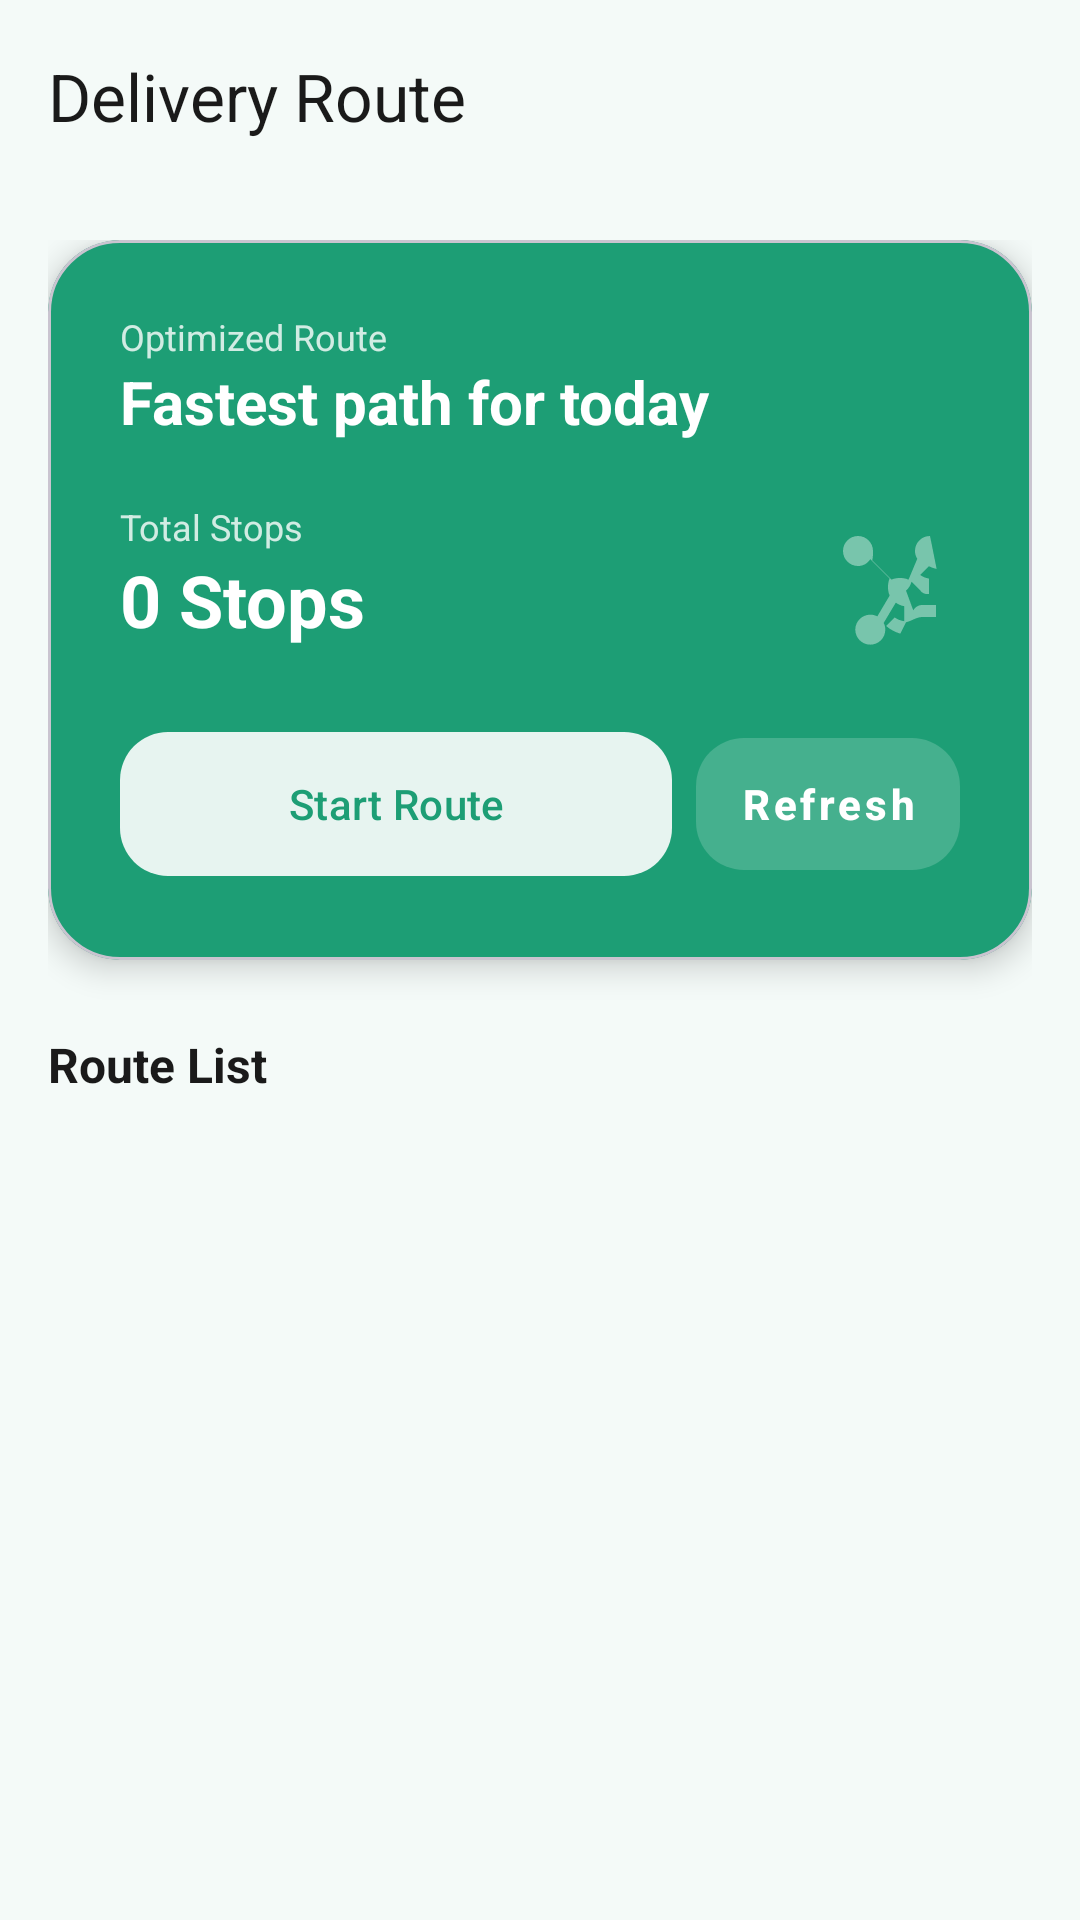

Icons on this 1080*1920 Android screen, each with the point to tap as point (x, y):
route path: point (890, 590)
